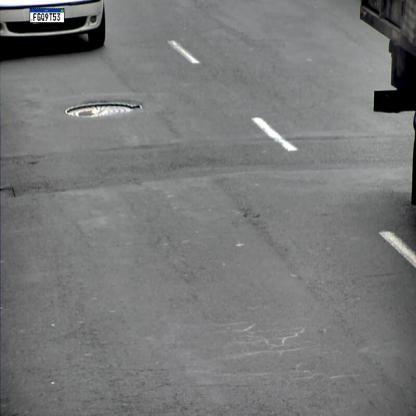PlacaM: (30, 8, 64, 23)
